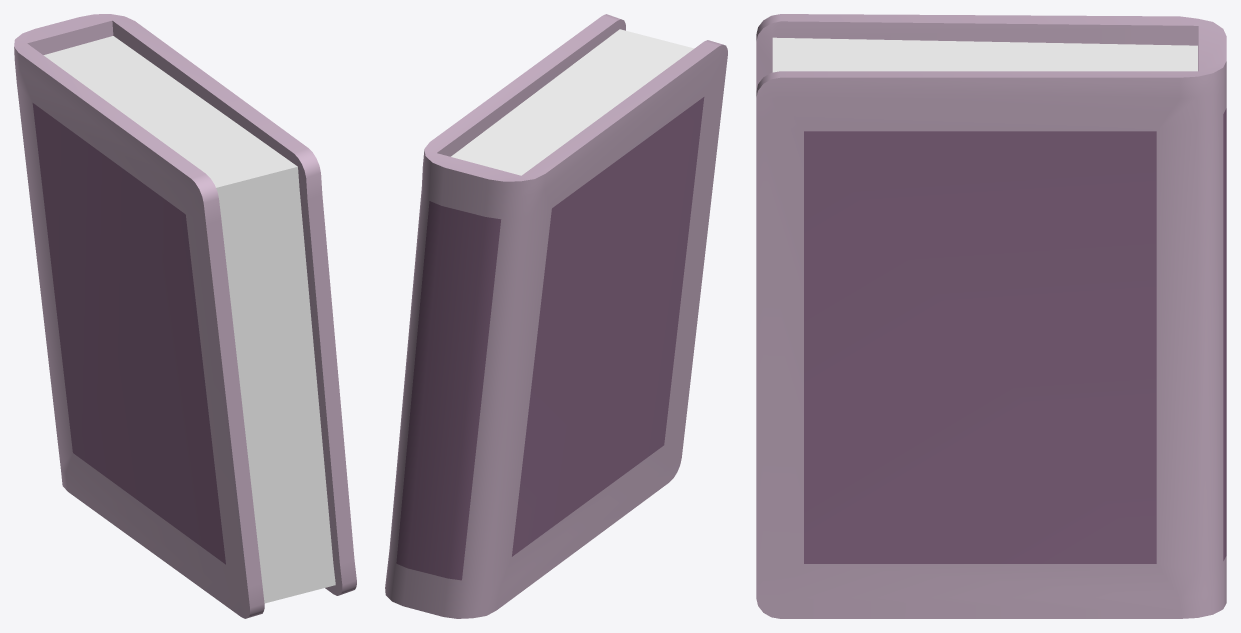
The model's file is book_30.fbx.
The picture shows the model from 3 angles, left to right: view 1: azimuth 30°, elevation 25°; view 2: azimuth 150°, elevation 25°; view 3: azimuth 270°, elevation 25°; orthographic projection. The views are drawn at different scales.
Visible parts, largest first — view 1: book_30; view 2: book_30; view 3: book_30.
Boxes of the visible parts, x1,y1,x2,y2 form: book_30: (14,14,356,618); book_30: (385,14,727,618); book_30: (756,14,1226,618).
Bounding box in the file's own units: 0.1179 × 0.3261 × 0.2658.
